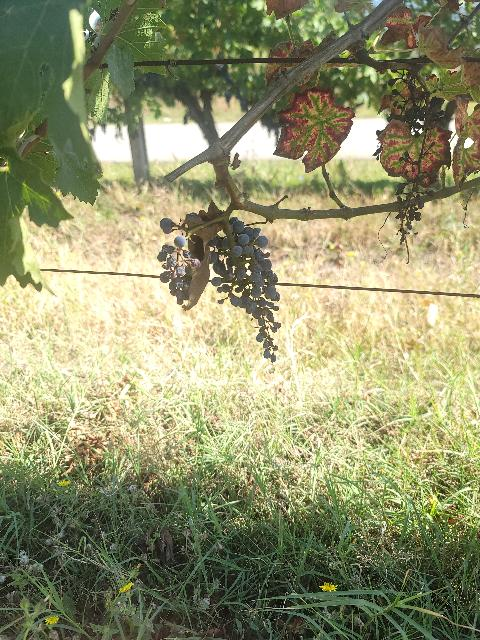grapes: (206, 218, 281, 361), (158, 235, 200, 305)
